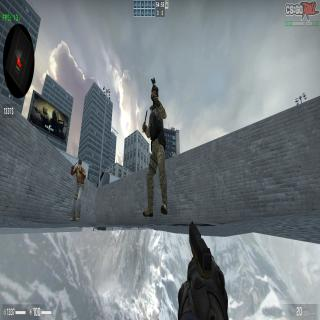CT-Body: (143, 82, 168, 216)
CT-Head: (150, 85, 159, 106)
T-Body: (69, 160, 86, 223)
T-Head: (78, 158, 82, 170)
